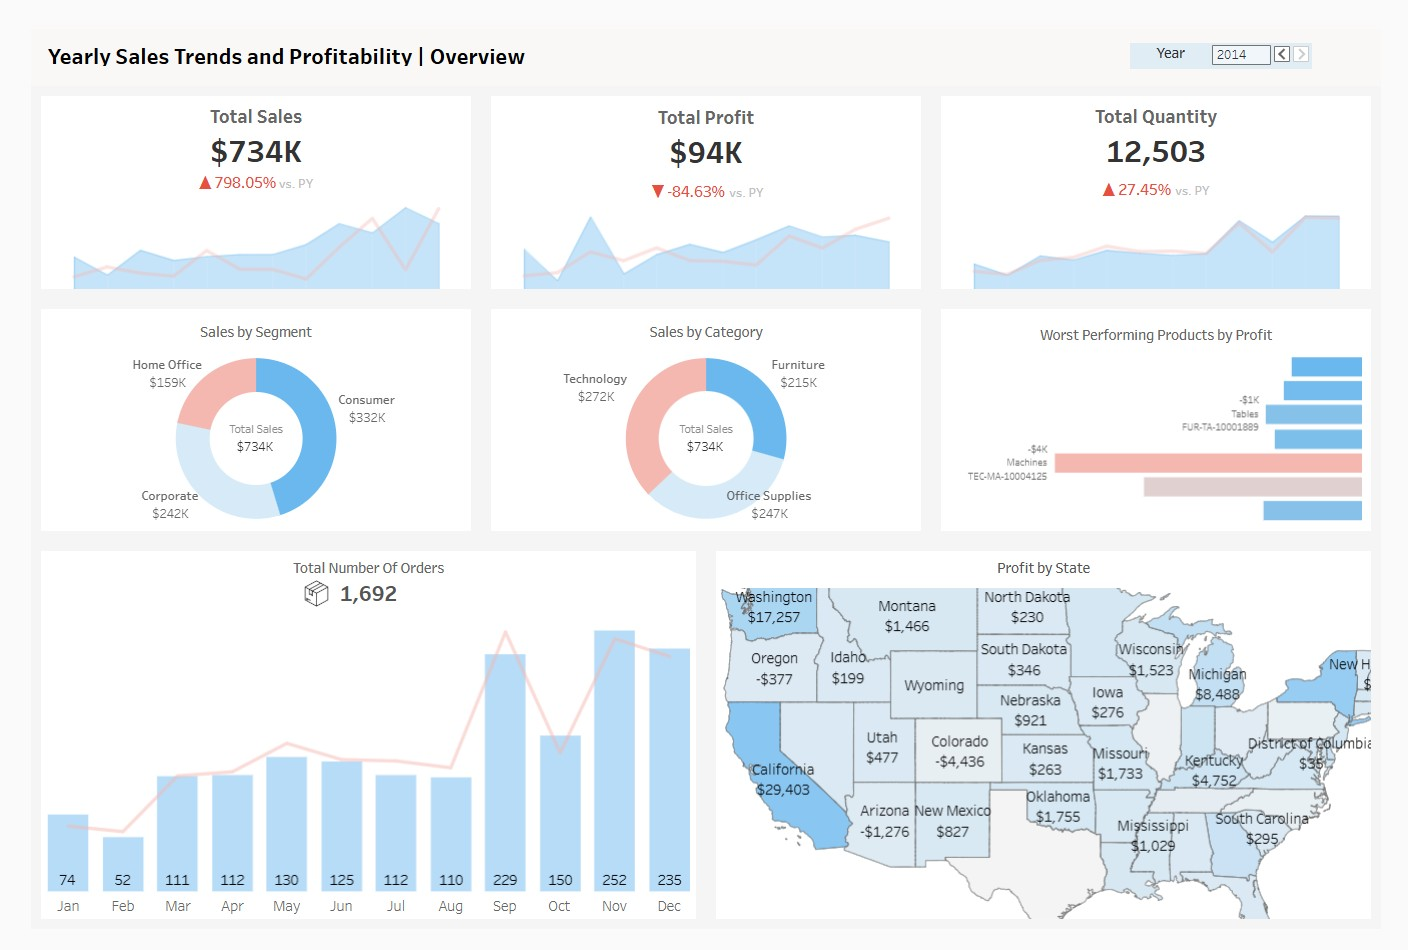

This screenshot's page, from the dashboard's own definition file:
{"tool":"tableau","page":{"name":"superstoreDashboard ","canvas":[1200,800],"ordinal":0},"visuals":[{"type":"text","box":[0,0,1200,51]},{"type":"parameter","param":"[Parameters].[Parameter 1]","box":[977,15,162,23]},{"type":"worksheet","title":"KPI sales","mark":"Area","rows":["Calculation_1014717314657075216","Calculation_1014717314657824785"],"cols":["Order Date"],"box":[0,51,400,189]},{"type":"worksheet","title":"KPI profit","mark":"Area","rows":["CY Sales (copy)_1014717314991042587","PY Sales (copy)_1014717314991308828"],"cols":["Order Date"],"box":[400,51,400,189]},{"type":"worksheet","title":"KPI Quantity","mark":"Area","rows":["CY Sales (copy)_1014717315014848546","PY Sales (copy)_1014717315015893027"],"cols":["Order Date"],"box":[800,51,400,189]},{"type":"worksheet","title":"sales by segment2","mark":"Pie","cols":["Calculation_1014717314451075085","Calculation_1014717314451075085"],"box":[0,240,400,214.7]},{"type":"worksheet","title":"sales by category","mark":"Pie","cols":["Calculation_1014717314451075085","Calculation_1014717314451075085"],"box":[400,240,400,214.7]},{"type":"worksheet","title":"negative products (2)","mark":"Automatic","rows":["Product Name"],"cols":["CY Sales (copy)_1014717314991042587"],"box":[800,240,400,214.7]},{"type":"worksheet","title":"test (2)","mark":"Automatic","rows":["Calculation_1014717315339743278","Calculation_1014717315339956271"],"cols":["Order Date"],"box":[0,454.7,600,345.3]},{"type":"worksheet","title":"top 5 states","mark":"Automatic","box":[600,454.7,600,345.3]},{"type":"image","param":"D:/Data Analytics/Tableau/Icons/icons8-logistics-100.png","box":[238,489,37,36]}]}

Visuals, with their boxes in screenshot pixels (x1, y1, x2, y2), scaled from the page's 1200x800 canvas onto the 1408x950 screenshot:
text: <region>0, 0, 1407, 61</region>
parameter: <region>1146, 18, 1336, 45</region>
"KPI sales" worksheet (Area marks): <region>0, 61, 469, 285</region>
"KPI profit" worksheet (Area marks): <region>469, 61, 939, 285</region>
"KPI Quantity" worksheet (Area marks): <region>939, 61, 1407, 285</region>
"sales by segment2" worksheet (Pie marks): <region>0, 285, 469, 540</region>
"sales by category" worksheet (Pie marks): <region>469, 285, 939, 540</region>
"negative products (2)" worksheet: <region>939, 285, 1407, 540</region>
"test (2)" worksheet: <region>0, 540, 704, 949</region>
"top 5 states" worksheet: <region>704, 540, 1407, 949</region>
image: <region>279, 581, 323, 623</region>
